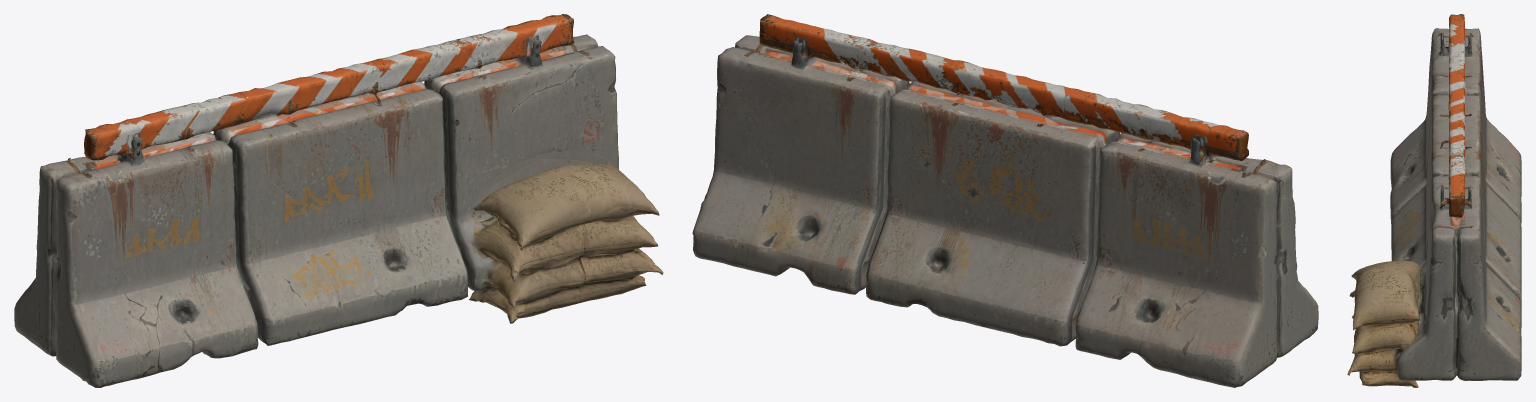
The model's file is Prop_Barricade.glb.
The picture shows the model from 3 angles, left to right: view 1: azimuth 30°, elevation 25°; view 2: azimuth 150°, elevation 25°; view 3: azimuth 270°, elevation 25°; orthographic projection. The views are drawn at different scales.
Visible parts, largest first — view 1: texture_mapping; view 2: texture_mapping; view 3: texture_mapping.
Part boxes in pixels (x1,y1,x2,y2): texture_mapping: [14, 14, 663, 387]; texture_mapping: [692, 14, 1318, 387]; texture_mapping: [1347, 14, 1521, 387].
Bounding box in the file's own units: 0.9909 × 0.4076 × 0.346.
1 material, 1 textured.
